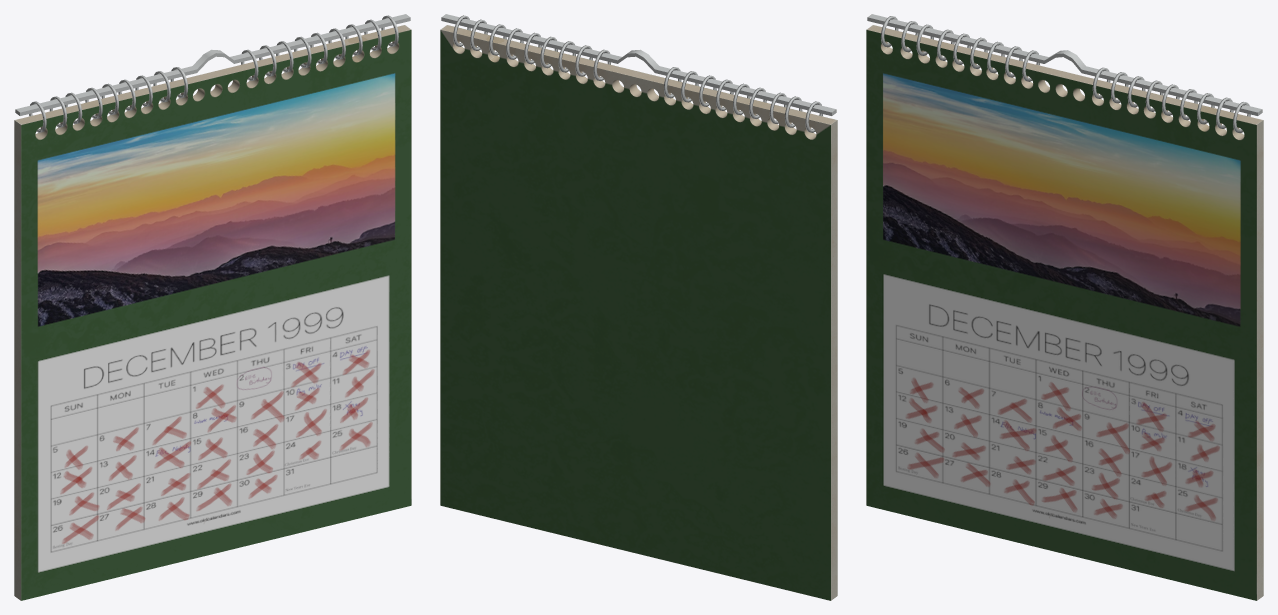
3 views of the same model, side by side, from view 1: azimuth 30°, elevation 25°; view 2: azimuth 150°, elevation 25°; view 3: azimuth 330°, elevation 25° (orthographic).
Parts seen in each view (by area): view 1: polySurface16, polySurface12; view 2: polySurface16, polySurface12; view 3: polySurface16, polySurface12.
Boxes of the visible parts, x1,y1,x2,y2 form: polySurface16: (14,25,411,600); polySurface12: (15,14,410,115); polySurface16: (440,25,837,600); polySurface12: (441,14,836,115); polySurface16: (866,25,1263,600); polySurface12: (867,14,1262,115).
Bounding box in the file's own units: 1.47 × 1.8 × 0.1042.
1 material, 1 textured.
